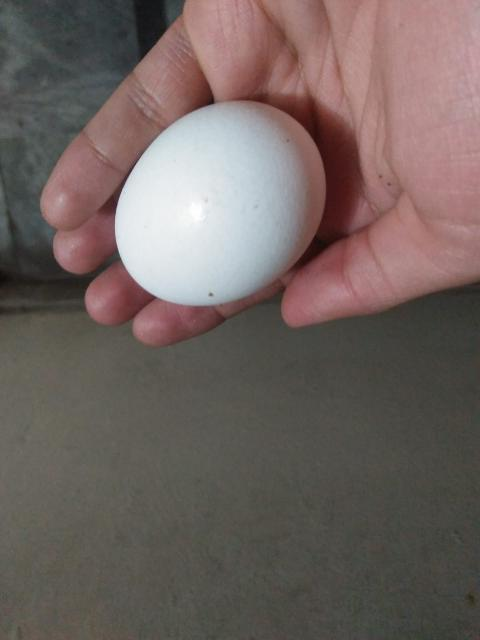Sano: (117, 103, 325, 308)
